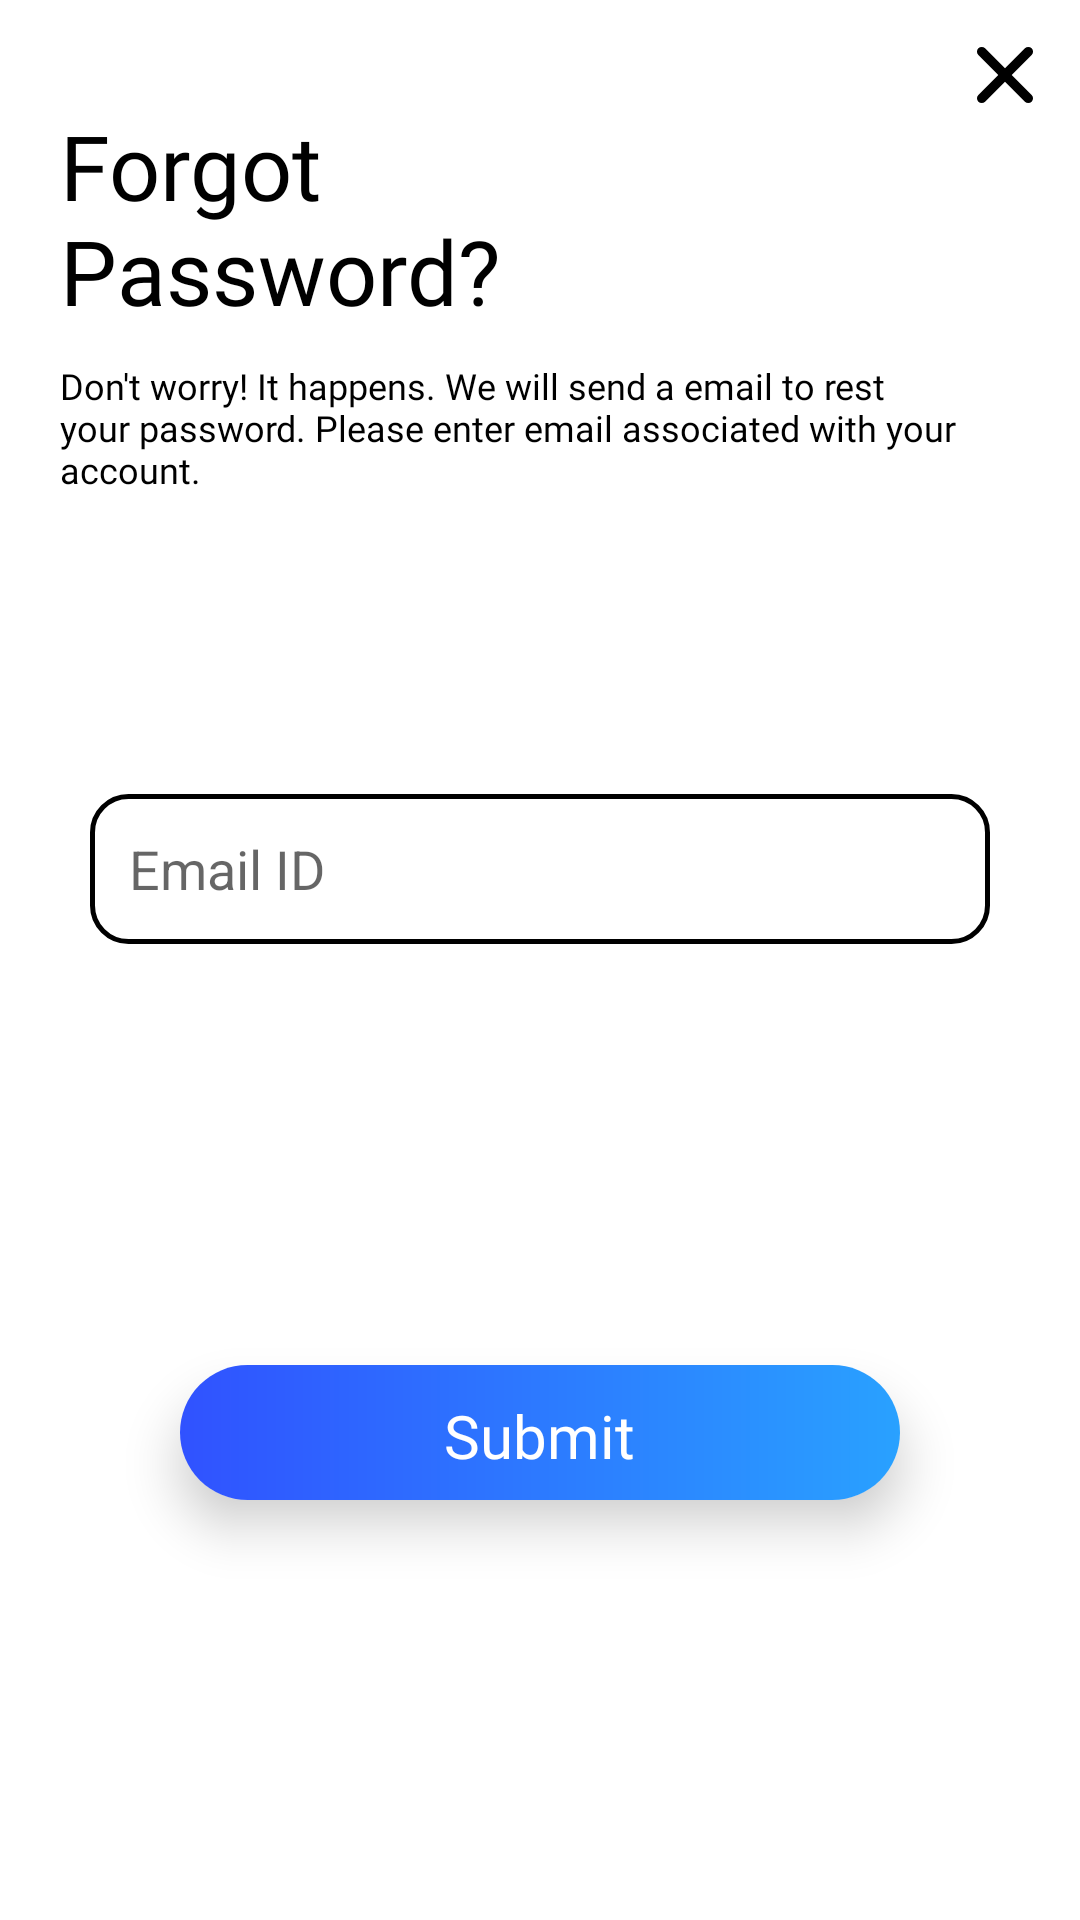

Point at icon controls on the screen. Image size 1080 × 1920, points as point (x, y).
close: point (1005, 75)
